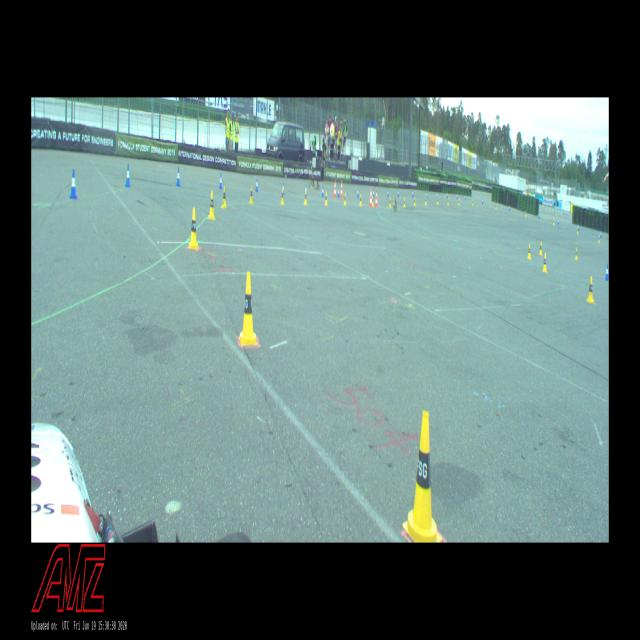blue_cone: (70, 169, 77, 198), (125, 164, 131, 187), (176, 168, 180, 185), (605, 264, 609, 280), (255, 179, 258, 192), (220, 173, 222, 189), (322, 186, 324, 197), (305, 185, 307, 196), (357, 188, 359, 198), (337, 188, 339, 197), (397, 190, 399, 197), (283, 183, 284, 195), (538, 213, 540, 219), (600, 232, 602, 238), (373, 188, 374, 198), (464, 196, 466, 200), (412, 190, 413, 197), (558, 218, 559, 225), (426, 193, 427, 199), (437, 193, 438, 199), (457, 193, 458, 199), (482, 198, 483, 204), (509, 205, 510, 211), (447, 193, 448, 198), (578, 225, 579, 230), (388, 190, 388, 197)
large_orange_cone: (340, 180, 343, 198), (375, 190, 378, 207), (369, 190, 372, 206), (334, 180, 336, 198)
yellow_cone: (402, 410, 442, 542), (239, 272, 257, 345), (189, 207, 199, 249), (208, 191, 216, 219), (587, 277, 594, 302), (221, 186, 227, 208), (543, 253, 547, 272), (527, 243, 531, 259), (250, 185, 253, 204), (281, 189, 284, 205), (539, 242, 542, 255), (304, 192, 307, 204), (575, 248, 578, 260), (359, 195, 362, 205), (325, 192, 327, 205), (344, 193, 346, 204), (389, 198, 391, 207), (598, 235, 600, 243), (414, 198, 416, 205), (424, 198, 426, 205), (447, 198, 449, 205), (404, 198, 405, 208), (372, 196, 373, 206), (437, 198, 438, 205), (553, 219, 554, 226), (577, 228, 578, 235), (458, 199, 459, 205), (472, 200, 473, 206), (525, 211, 526, 217), (549, 208, 550, 212), (556, 212, 557, 216), (561, 211, 562, 215), (496, 204, 496, 210)
